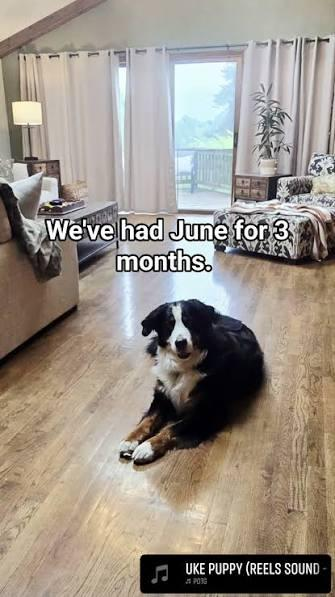adult_dog: (118, 298, 270, 465)
